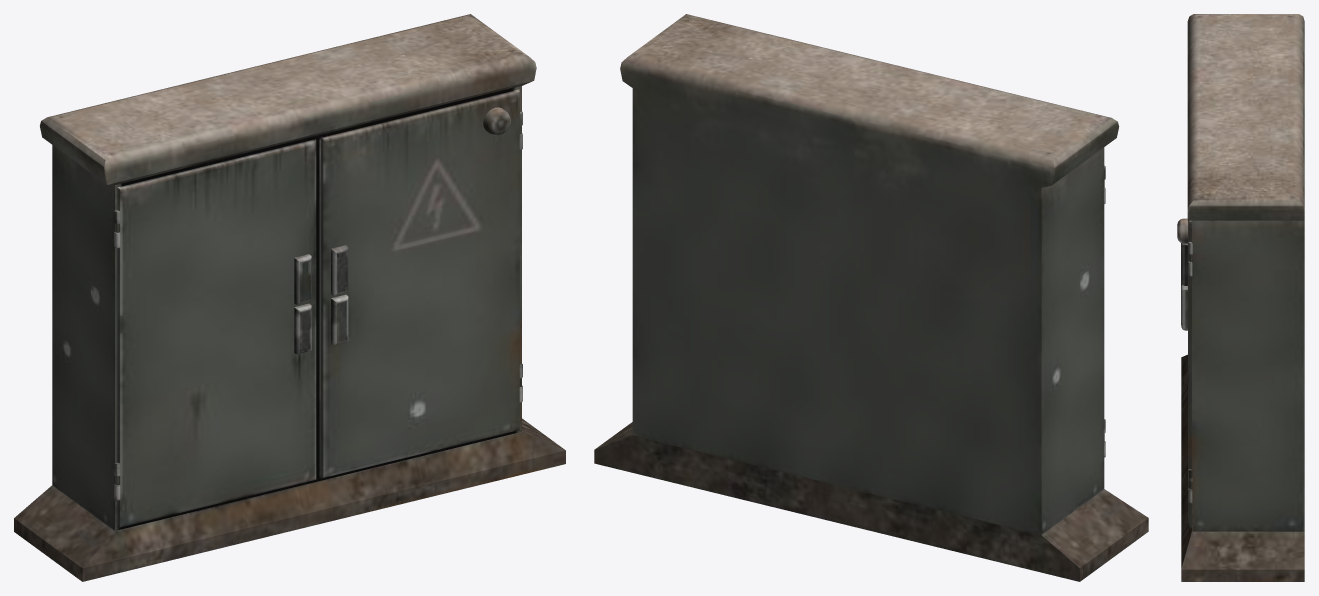
The model's file is electrical_box_free.glb.
3 views of the same model, side by side, from view 1: azimuth 30°, elevation 25°; view 2: azimuth 150°, elevation 25°; view 3: azimuth 270°, elevation 25° (orthographic). The views are drawn at different scales.
Parts seen in each view (by area): view 1: electrical_box_free.001; view 2: electrical_box_free.001; view 3: electrical_box_free.001.
Boxes of the visible parts, x1=… form: electrical_box_free.001: x1=14, y1=14, x2=565, y2=581; electrical_box_free.001: x1=594, y1=14, x2=1148, y2=581; electrical_box_free.001: x1=1177, y1=14, x2=1304, y2=581.
Size of the model in its own units: 2 by 1.63 by 0.5072.
Materials: 1 (1 with a texture image).
